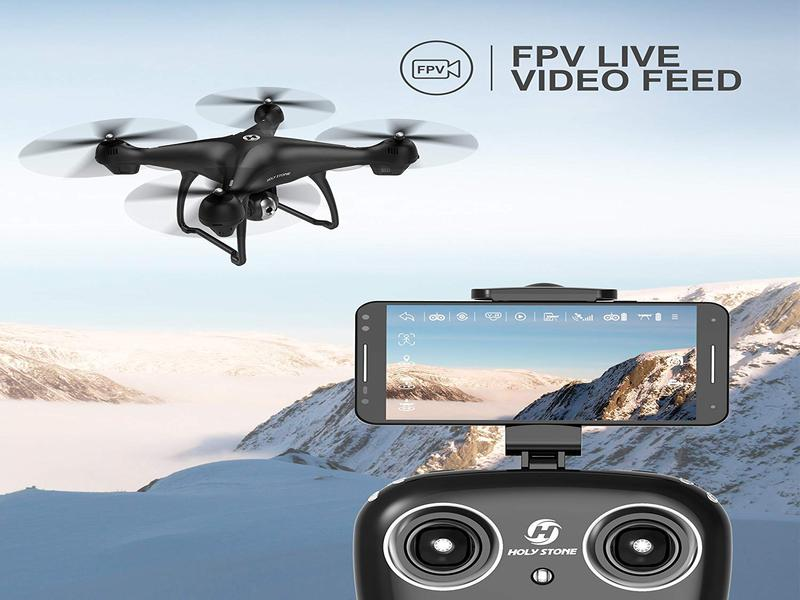enemy: (95, 101, 424, 255)
